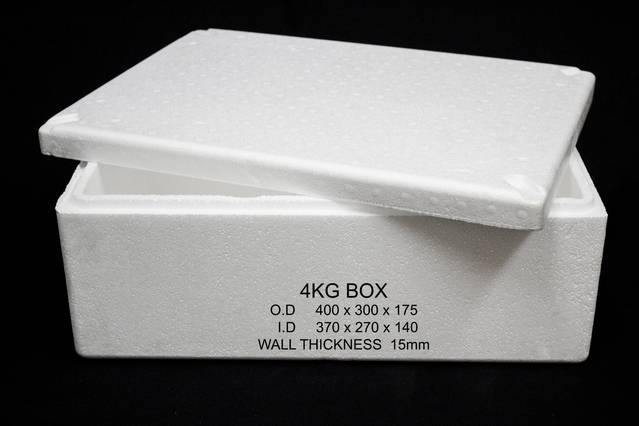泡沫箱: (39, 30, 606, 360)
